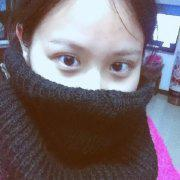OK: (31, 32, 149, 150)
